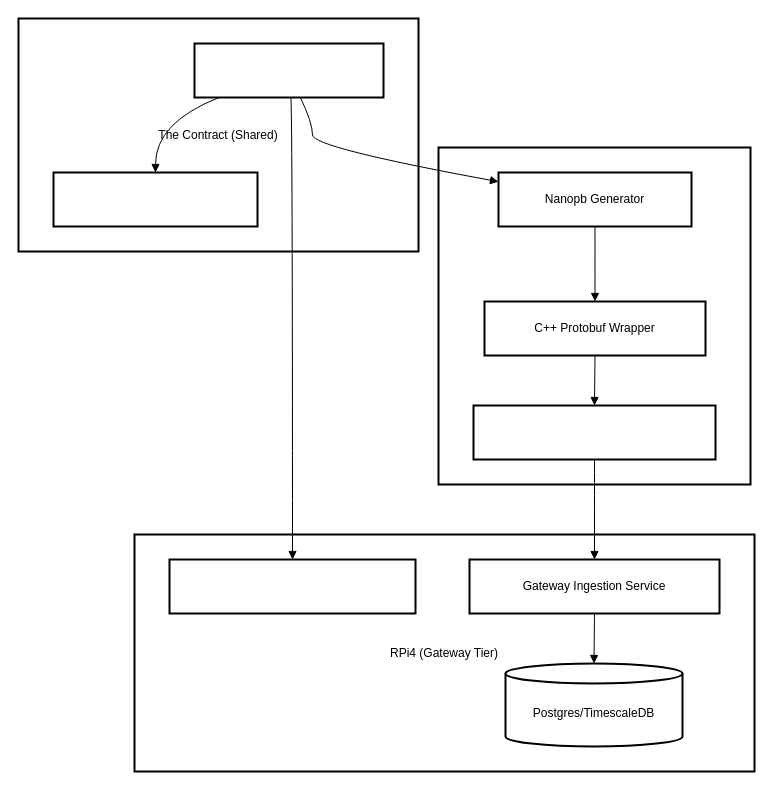
The diagram is 772 pixels wide and 789 high, and some of its shapes have lost their labels. The centre of each missing label's shape, as x and y in pixels:
"Google Protobuf C++ Gen" goes at point 292,586.
"sensor_data.options" goes at point 155,199.
"sensor_data.proto" goes at point 288,70.
"Serialized Binary Payload" goes at point 594,432.
